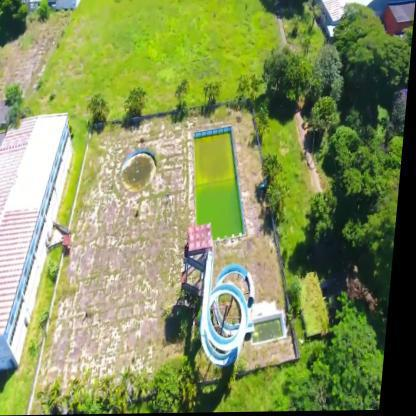agua: (194, 136, 243, 229), (124, 154, 161, 189)
